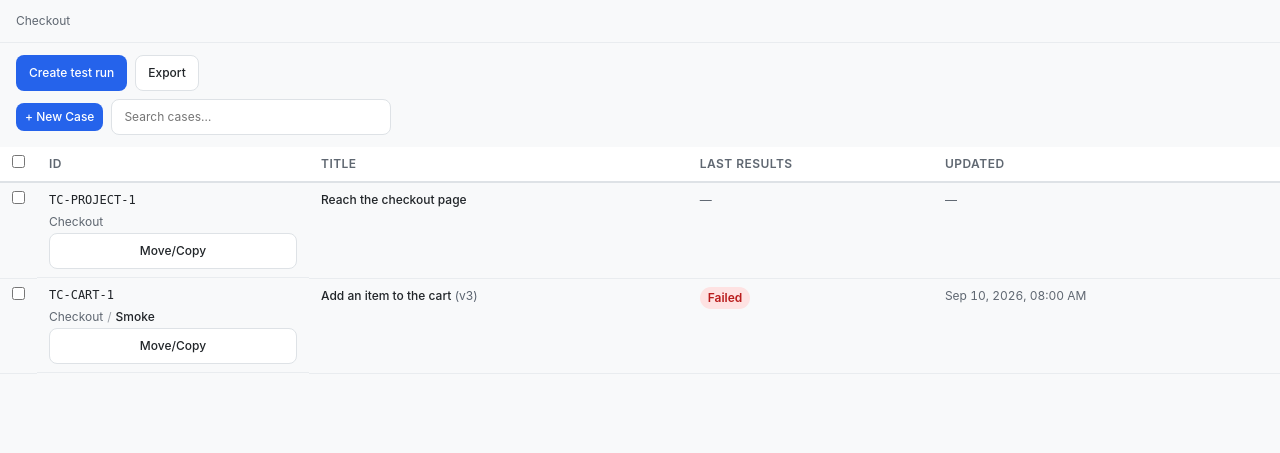
Scenario: CaseList › selects rows with checkboxes and runs a bulk tag update
Expected: the number of rows is 3, [0,147,1279,182]; [0,182,1279,278]; [0,278,1279,373]
Click the checkbox named "Select TC-CART-1".
click(18, 293)  # box [12,286,25,300]
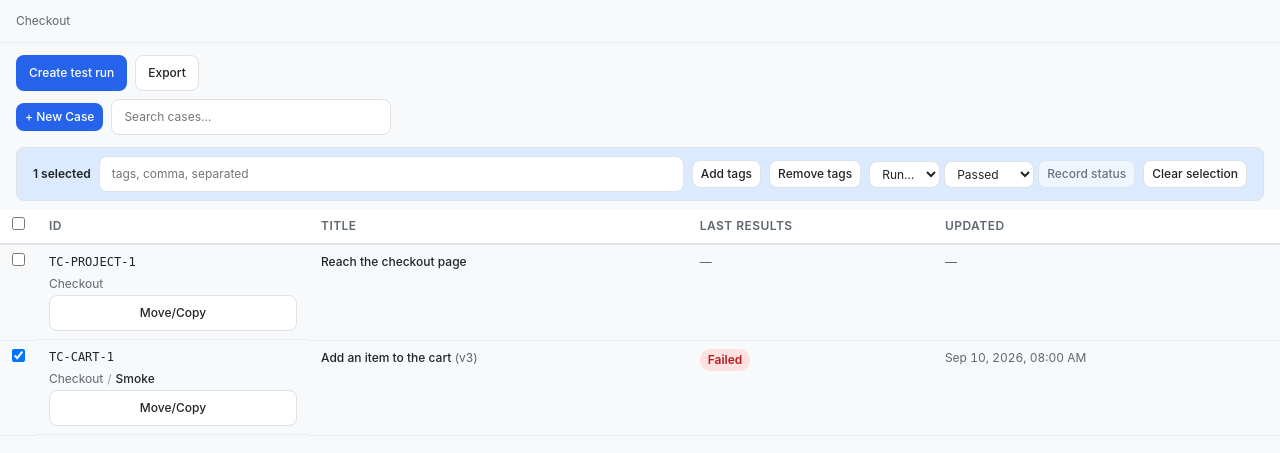
Expected: the element named "Bulk case operations" is shown, [16,147,1264,201]
Expected: the text "1 selected" is shown, [33,165,91,183]
Type "regression" into the field named "Tags for bulk operations".
click(391, 174); type("regression")  # box [99,156,684,192]
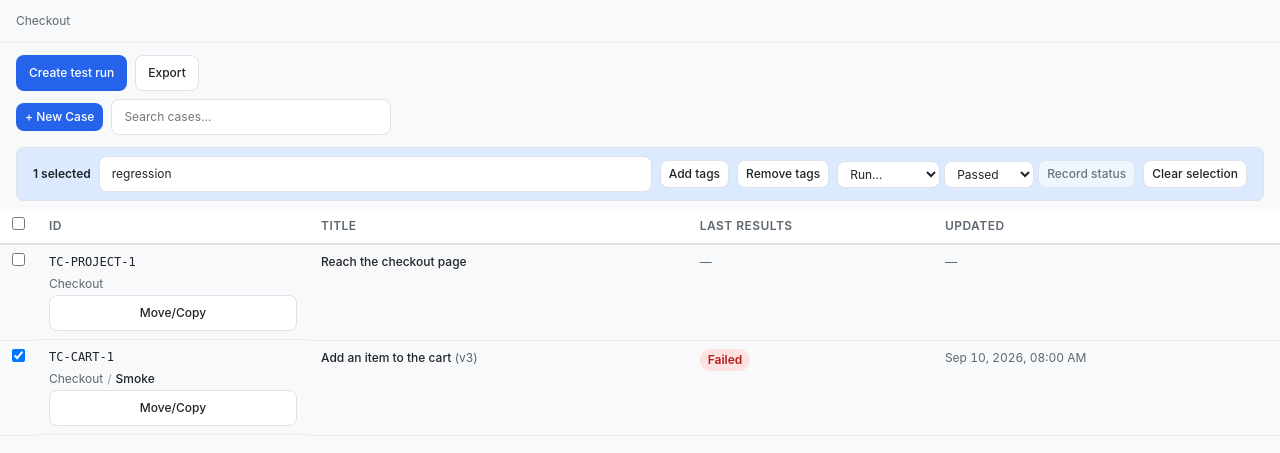
Click the button "Add tags".
click(694, 174)  # box [660,160,729,188]
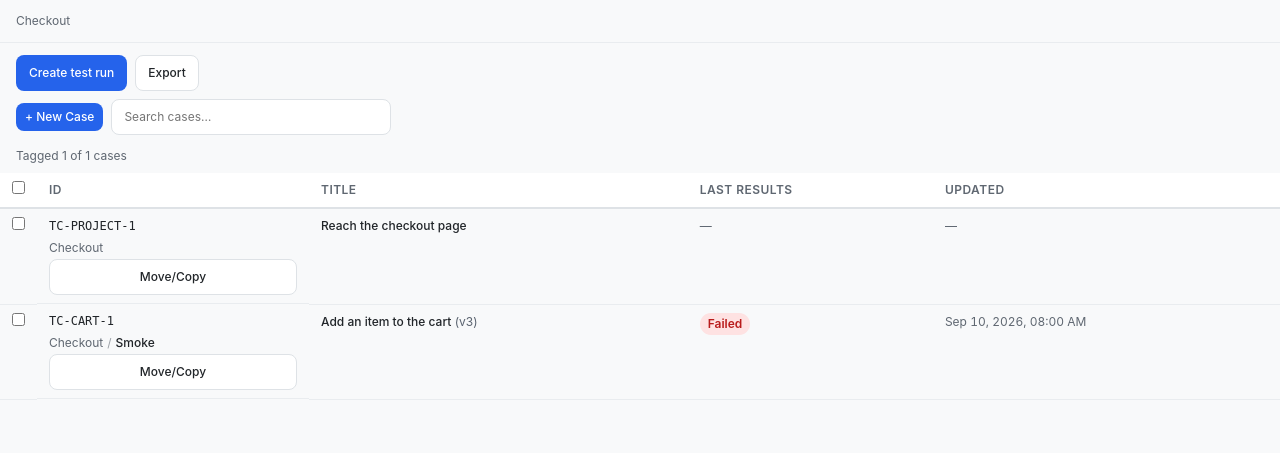
Expected: the text "Tagged 1 of 1 cases" is shown, [16,148,127,163]
